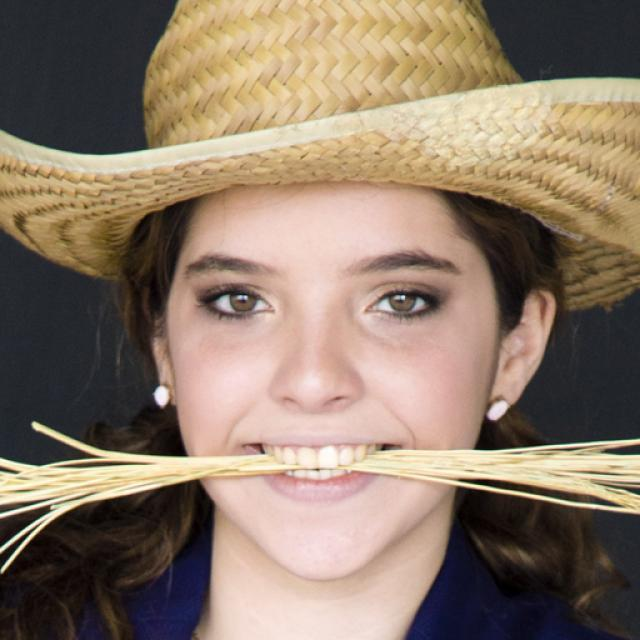happy: (168, 186, 497, 580)
